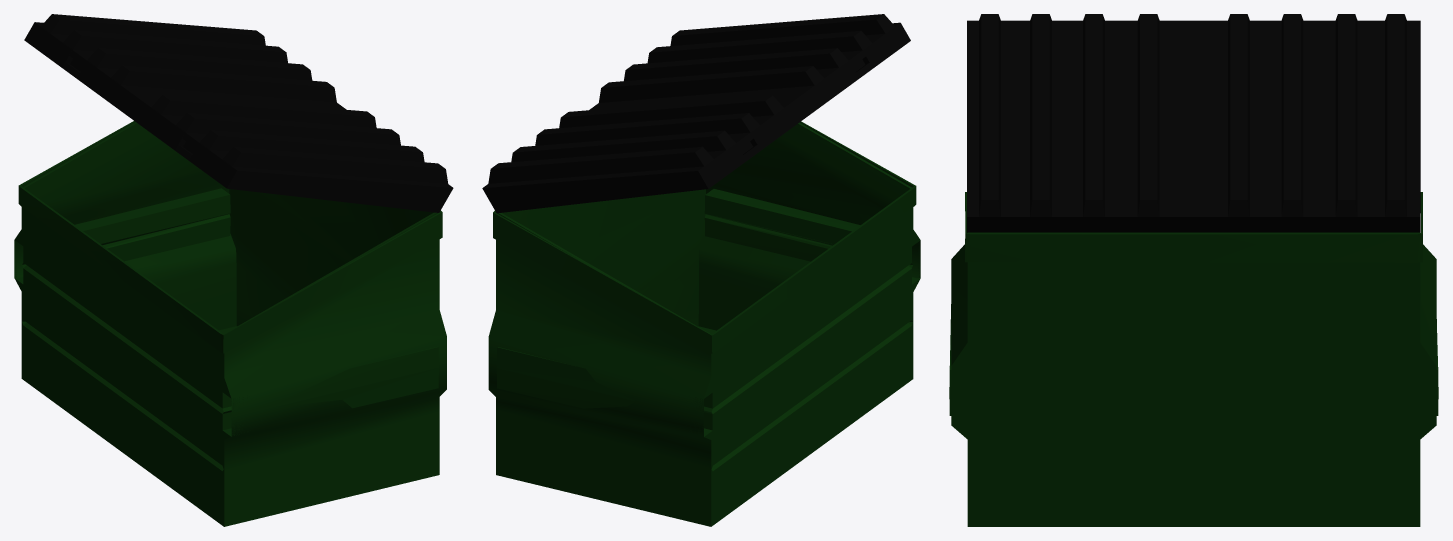
File: dumpster.FBX
3 renders of one model, left to right at view 1: azimuth 30°, elevation 25°; view 2: azimuth 150°, elevation 25°; view 3: azimuth 270°, elevation 25°, orthographic. The views are drawn at different scales.
Visible parts, largest first — view 1: dumpsterbody, dumpster lid; view 2: dumpsterbody, dumpster lid; view 3: dumpsterbody, dumpster lid.
Boxes of the visible parts, x1,y1,x2,y2 form: dumpsterbody: (14, 121, 446, 526); dumpster lid: (24, 14, 453, 212); dumpsterbody: (488, 121, 920, 526); dumpster lid: (482, 14, 910, 213); dumpsterbody: (949, 192, 1438, 526); dumpster lid: (967, 14, 1420, 232).
Bounding box in the file's own units: 111 × 167 × 182.
